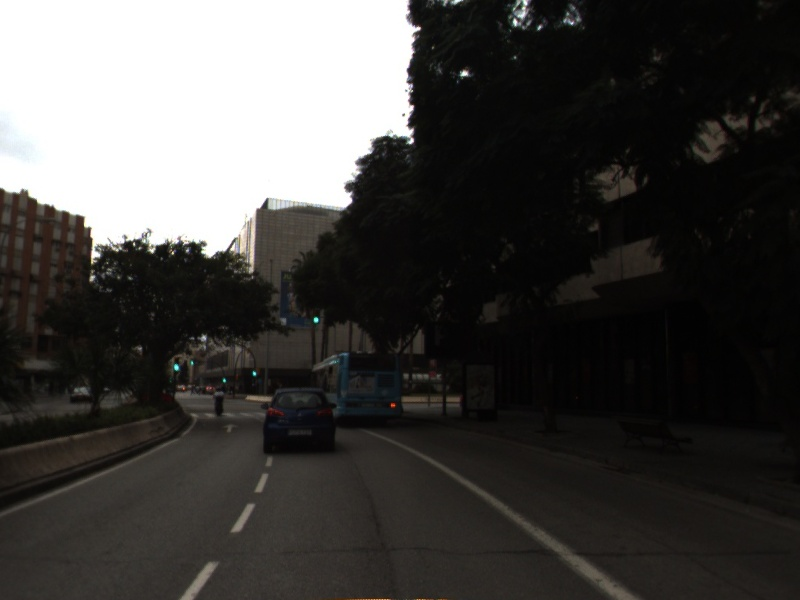STRAIGHT: (220, 421, 242, 435)
